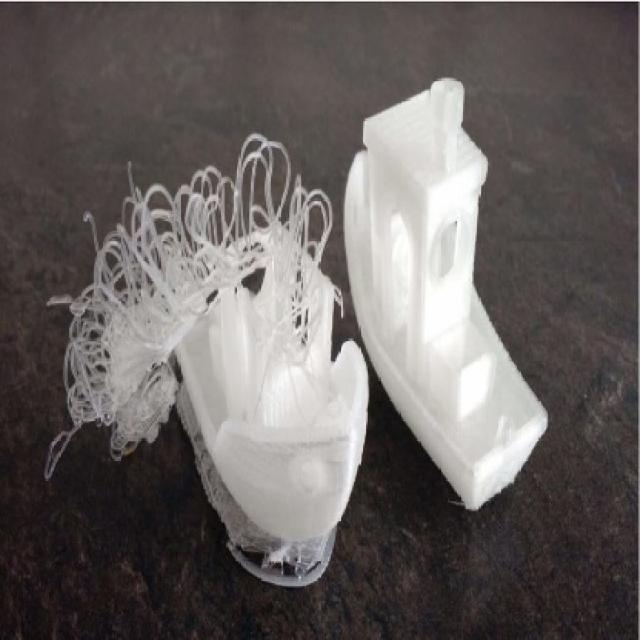spaghetti: (5, 149, 282, 437)
